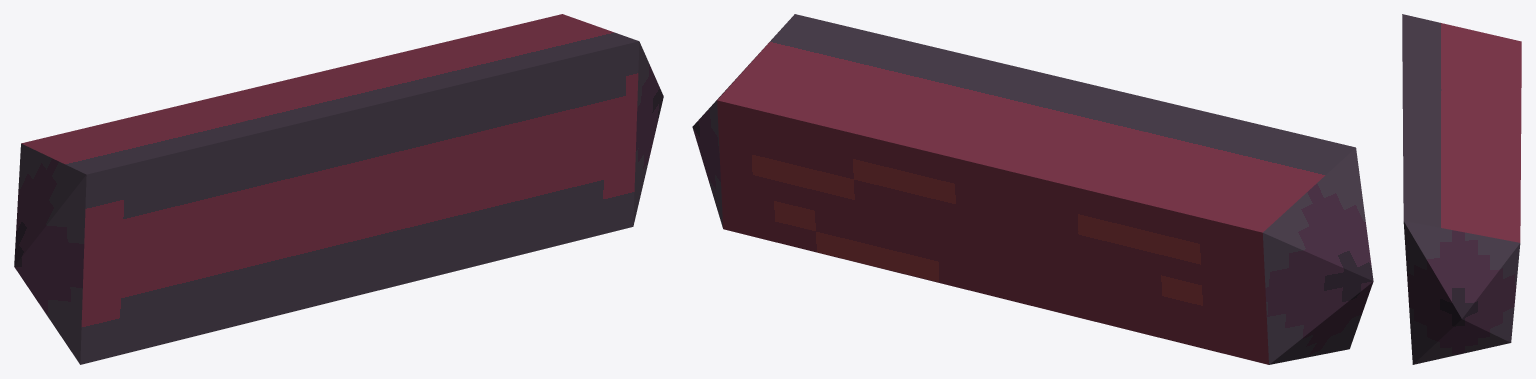
File: kobold_forearm.glb
3 views of the same model, side by side, from view 1: azimuth 30°, elevation 25°; view 2: azimuth 150°, elevation 25°; view 3: azimuth 270°, elevation 25° (orthographic). The views are drawn at different scales.
Parts seen in each view (by area): view 1: Cube.081; view 2: Cube.081; view 3: Cube.081.
Part boxes in pixels (x1=…): Cube.081: x1=14, y1=14, x2=663, y2=364; Cube.081: x1=692, y1=14, x2=1373, y2=364; Cube.081: x1=1402, y1=14, x2=1521, y2=364.
Bounding box in the file's own units: 2.15 × 0.6043 × 0.4433.
Materials: 1 (1 with a texture image).
